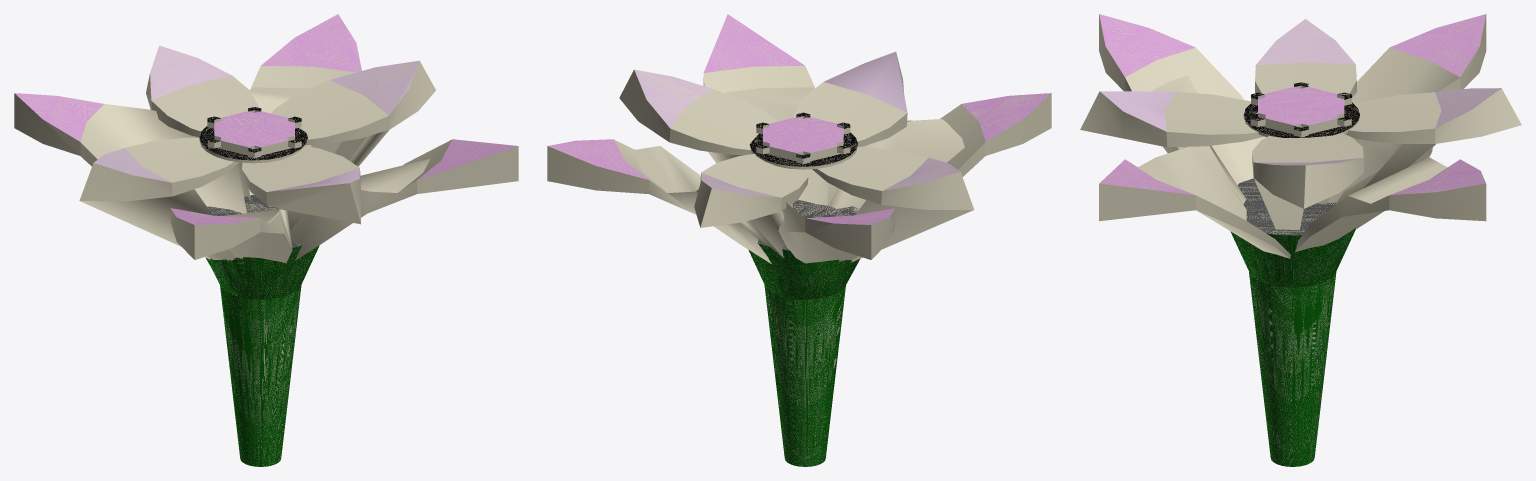
The model's file is Flower4_m_white.dae.
The picture shows the model from 3 angles, left to right: view 1: azimuth 30°, elevation 25°; view 2: azimuth 150°, elevation 25°; view 3: azimuth 270°, elevation 25°; orthographic projection. The views are drawn at different scales.
Visible parts, largest first — view 1: group_0 (×19); view 2: group_0 (×19); view 3: group_0 (×18).
Boxes of the visible parts, <box> form: group_0 (×19): <box>14,14,518,466</box>; group_0 (×19): <box>547,14,1051,466</box>; group_0 (×18): <box>1080,14,1521,466</box>.
Size of the model in its own units: 522 by 523 by 495.
